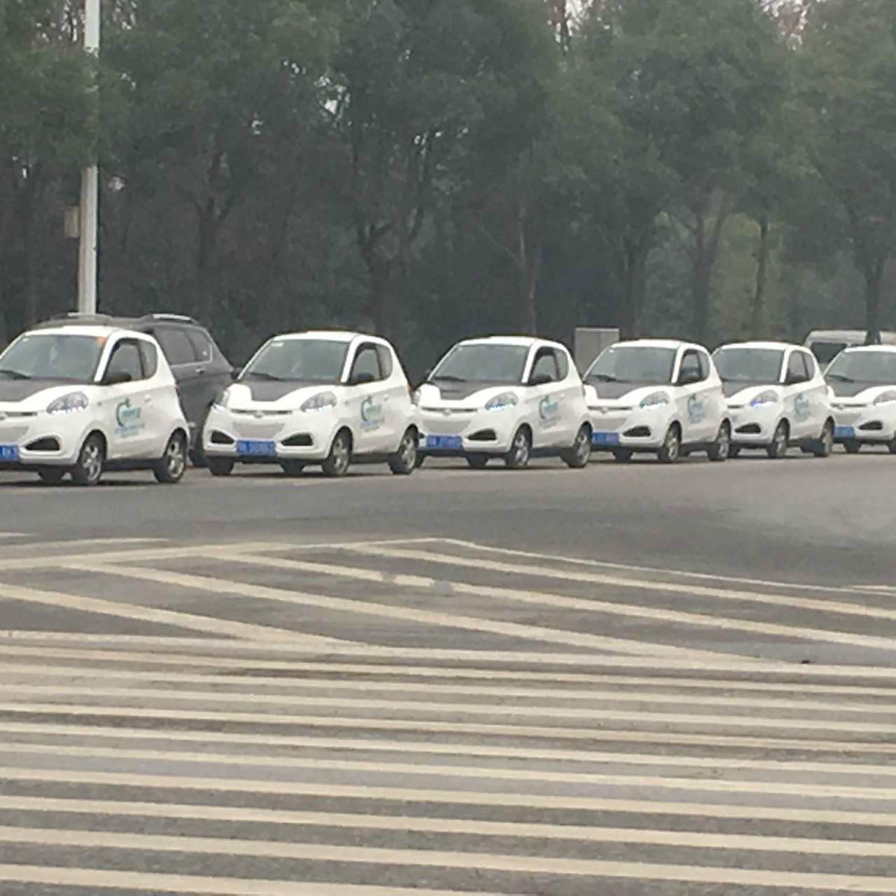car: (11, 315, 241, 469), (198, 328, 420, 474), (1, 320, 189, 480), (406, 330, 592, 469), (576, 333, 732, 465), (692, 338, 836, 460), (788, 320, 896, 441), (811, 339, 896, 455)
